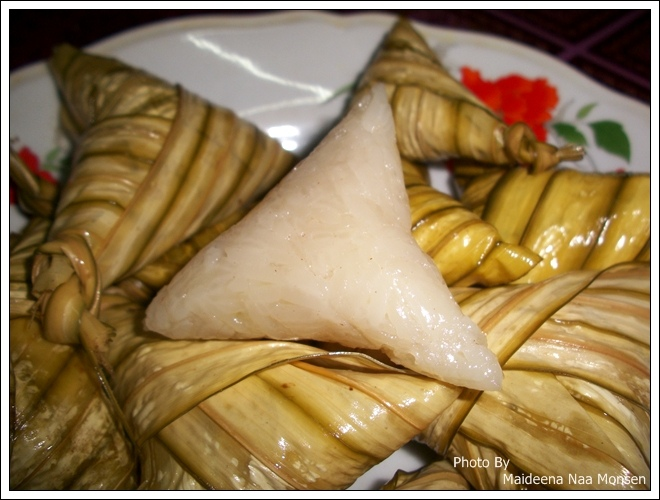kanomtom: (30, 28, 328, 330), (68, 303, 471, 492), (305, 11, 588, 186)
